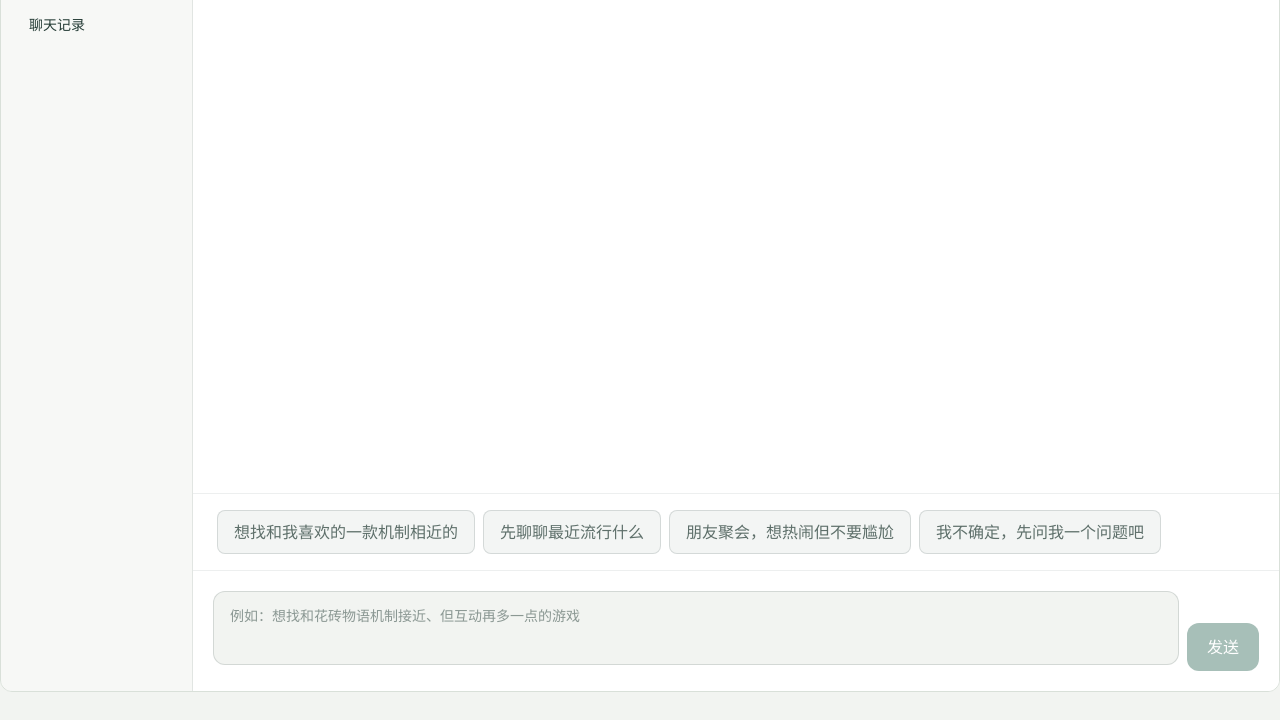
GameRecommendationAgent › shows the conversation reply even without game cards
(page scrolled)
Type "两个人，想安静合作，最好半小时左右" into the text box with placeholder "例如：想找和花砖物语机制接近、但互动再多一点的游戏". click: (696, 628)
box: [213, 591, 1179, 665]
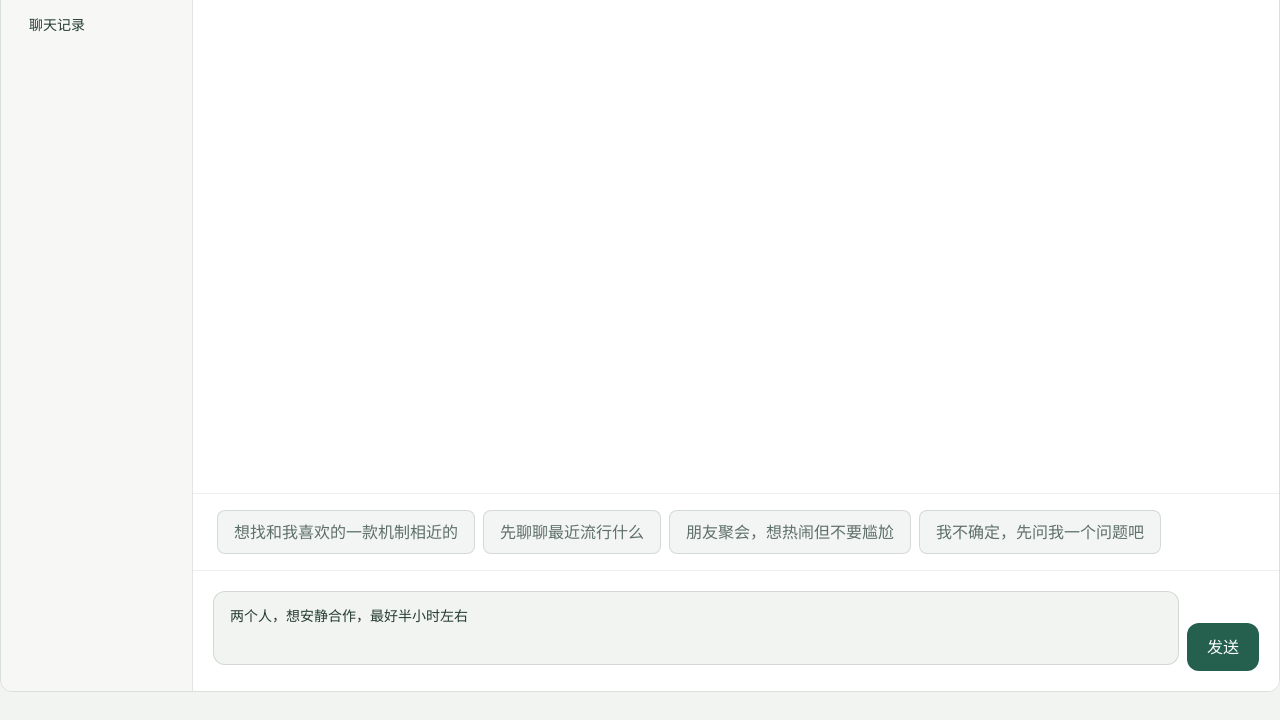
Submit the form, box [193, 570, 1279, 691]
(page scrolled)
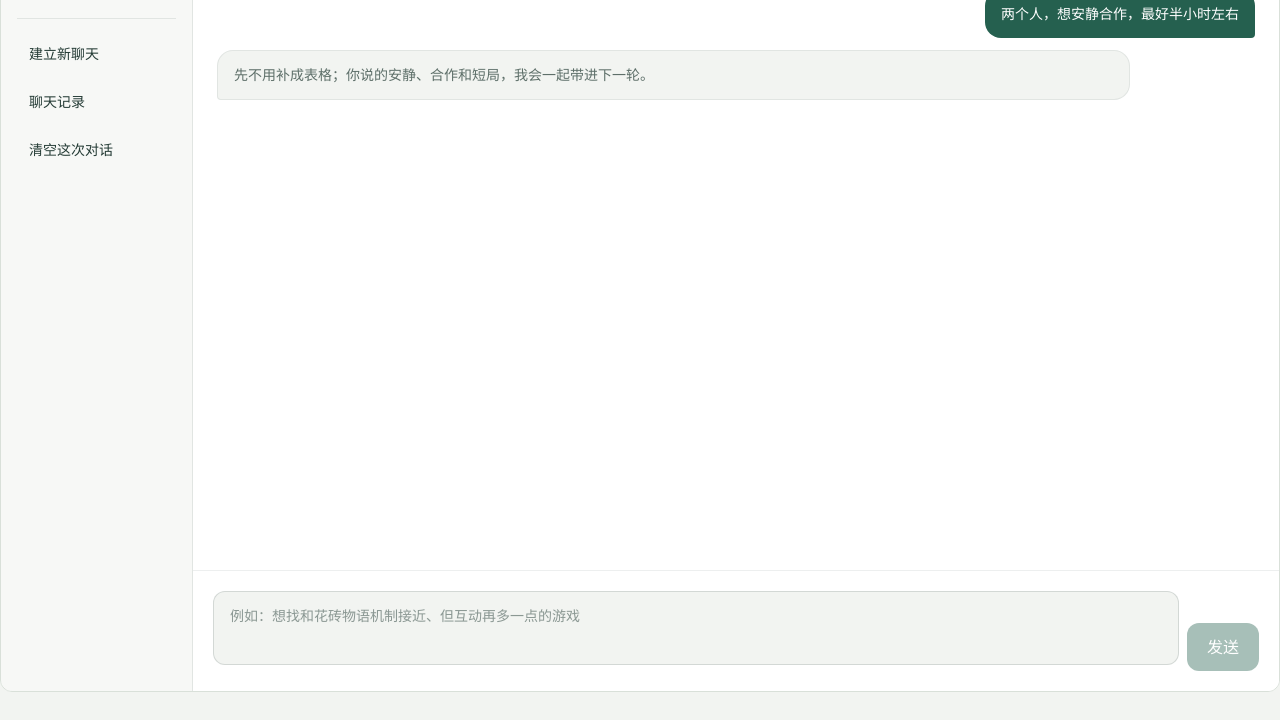
Check: the element with test id "assistant-conversation-turn" reads "先不用补成表格；你说的安静、合作和短局，我会一起带进下一轮。", box [234, 65, 654, 84]
